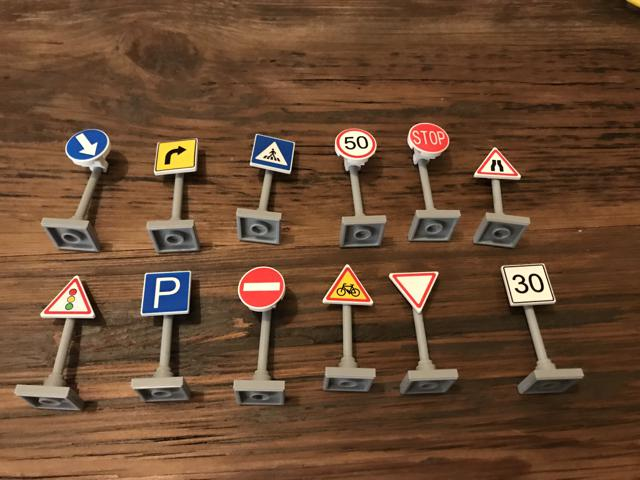fahrtrichtung rechts: (154, 134, 202, 176)
fußgängerüberweg: (248, 134, 298, 172)
lichtzeichenanlage: (42, 275, 98, 322)
parken: (139, 268, 194, 319)
radfahrer: (326, 264, 373, 304)
rechts halten: (65, 128, 112, 165)
stop: (406, 123, 453, 155)
tempolimit 30: (502, 263, 555, 309)
tempolimit 50: (333, 127, 376, 162)
verbot der einfahrt: (235, 265, 288, 312)
verengte fahrbahn: (470, 147, 521, 181)
vorfahrt gewähren: (388, 267, 442, 311)
